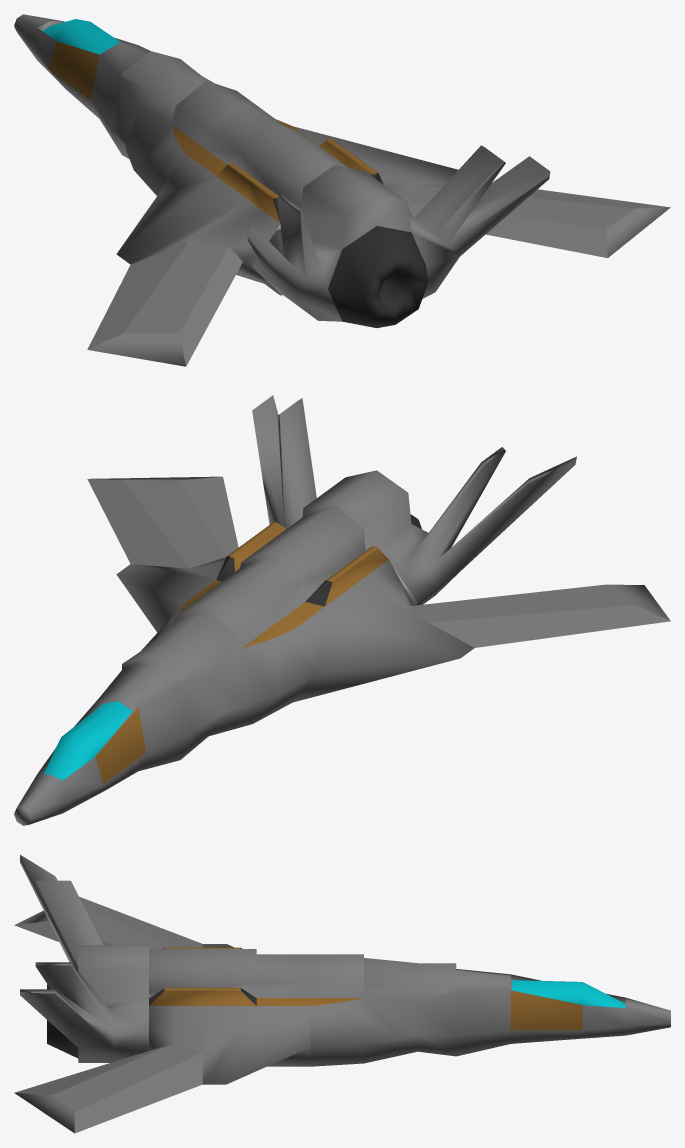
Rendered from Silverbolt.fbx.
3 views of the same model, one above another, from view 1: azimuth 30°, elevation 25°; view 2: azimuth 150°, elevation 25°; view 3: azimuth 270°, elevation 25° (orthographic). The views are drawn at different scales.
Parts seen in each view (by area): view 1: pCylinder1; view 2: pCylinder1; view 3: pCylinder1.
Part boxes in pixels (x1=…): pCylinder1: x1=14, y1=14, x2=670, y2=366; pCylinder1: x1=14, y1=395, x2=670, y2=825; pCylinder1: x1=14, y1=854, x2=670, y2=1133.
Size of the model in its own units: 30.36 by 8.04 by 35.33.
